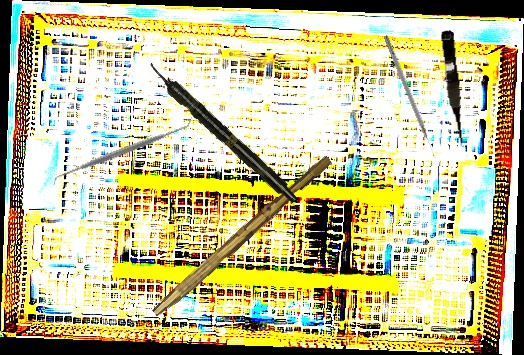Handpiece: (143, 58, 302, 207)
Hook Surgical: (382, 34, 438, 160)
Micro Scissor: (438, 29, 468, 150)
Scalpel Handle: (151, 150, 334, 324)
Spatula Surgical: (48, 115, 198, 187)
